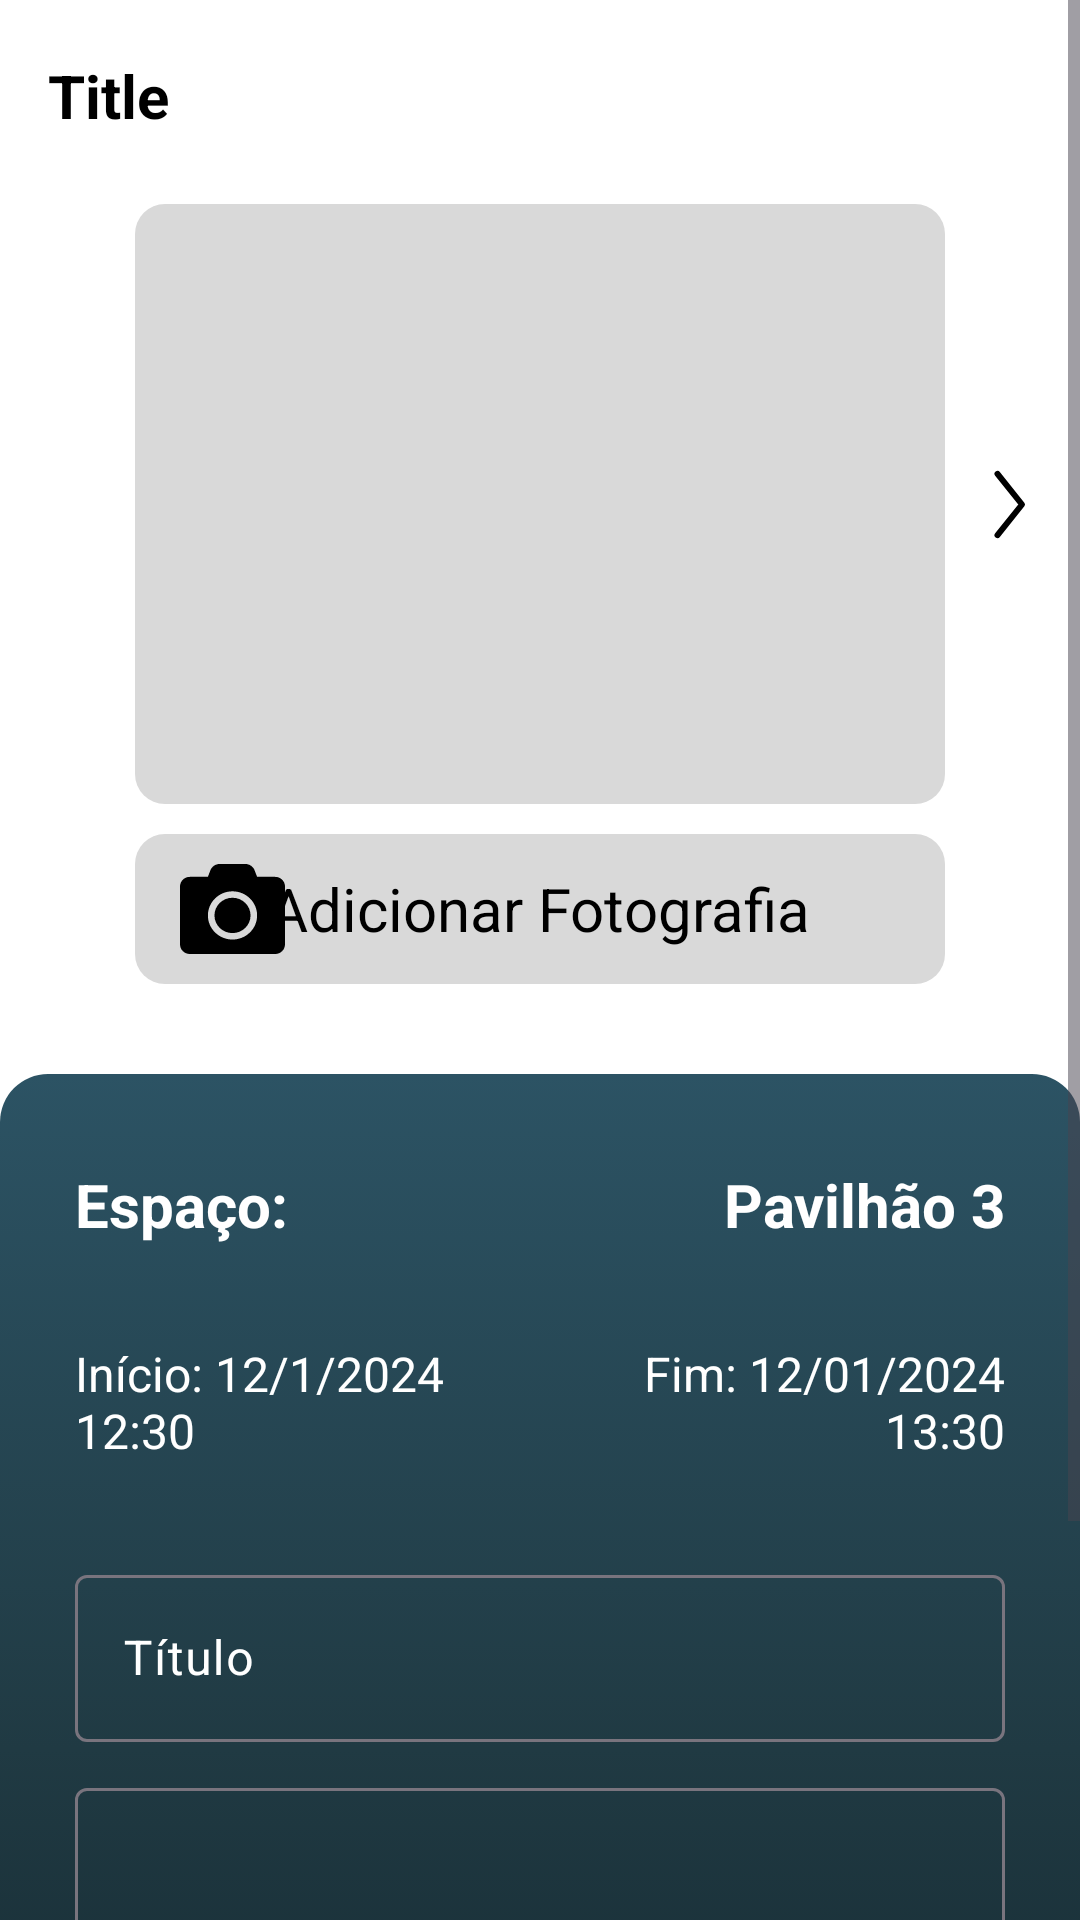

Screen size 1080*1920. Icon name, then its box in pixels as (x1, y1, x2, y2):
camera: (180, 864, 285, 954)
